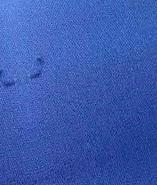knot: (28, 57, 49, 84), (0, 67, 17, 90)
